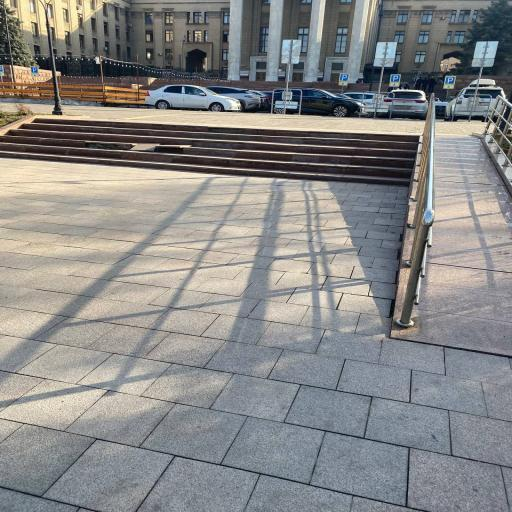book: (273, 88, 364, 117), (145, 85, 241, 112)
entrance: (389, 89, 511, 366)
laptop: (0, 118, 418, 186)
